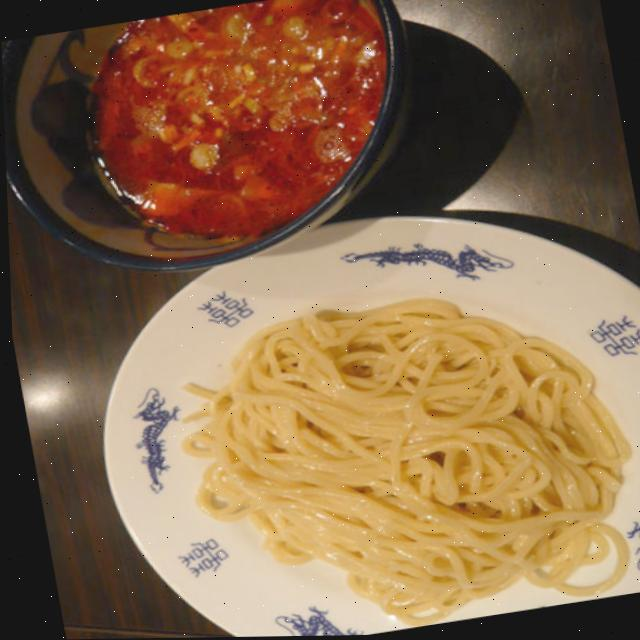面条主食: (106, 0, 640, 639)
